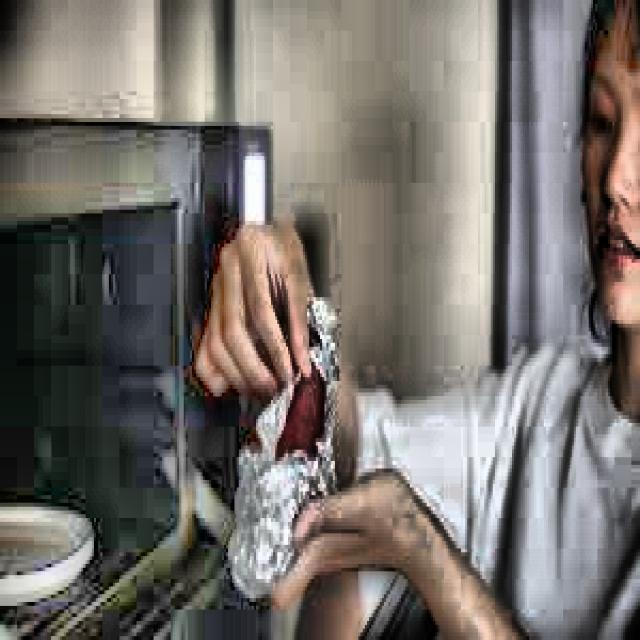Foil: (226, 282, 348, 593)
